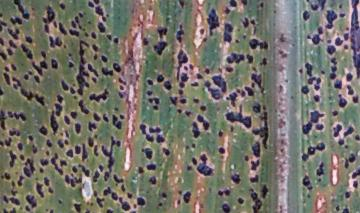tarspot: (348, 1, 360, 80), (75, 39, 89, 95), (224, 103, 251, 132), (253, 110, 270, 150), (100, 134, 117, 172), (175, 47, 189, 83), (206, 7, 221, 38), (203, 79, 222, 102), (196, 153, 214, 177), (248, 185, 262, 213), (13, 1, 31, 20), (225, 50, 245, 67), (19, 41, 36, 61), (88, 88, 110, 103), (308, 108, 326, 126), (212, 74, 227, 95), (23, 158, 37, 180), (249, 71, 263, 92), (51, 153, 63, 177), (324, 9, 337, 31), (44, 2, 57, 24), (304, 33, 324, 47), (49, 110, 59, 138), (304, 1, 329, 12), (223, 21, 234, 46), (152, 41, 169, 57), (195, 114, 210, 132), (18, 87, 33, 104), (175, 22, 186, 45), (91, 190, 105, 208), (300, 174, 314, 191), (77, 98, 90, 116), (78, 161, 90, 180), (118, 196, 131, 213), (25, 193, 38, 210), (300, 119, 312, 137), (111, 114, 123, 132), (251, 140, 262, 159), (226, 92, 239, 108), (140, 147, 156, 160), (94, 4, 107, 20), (33, 91, 46, 107), (52, 100, 64, 117), (34, 181, 45, 199), (6, 27, 20, 41), (336, 93, 348, 109), (230, 172, 242, 188), (314, 160, 325, 177), (156, 25, 169, 39), (249, 159, 261, 174), (87, 62, 99, 77), (8, 149, 17, 169), (30, 61, 42, 76), (331, 123, 342, 139), (182, 189, 192, 206), (342, 125, 355, 138), (13, 111, 27, 123), (100, 66, 115, 77), (1, 106, 7, 133), (191, 121, 199, 141), (96, 19, 106, 35), (324, 44, 337, 56), (258, 39, 270, 52), (8, 127, 21, 139), (81, 141, 88, 163), (304, 59, 313, 76), (240, 16, 251, 29), (243, 85, 254, 98), (136, 195, 147, 208), (112, 173, 125, 184), (67, 28, 80, 39), (300, 9, 310, 23), (245, 53, 255, 67), (251, 101, 261, 115), (248, 174, 262, 184), (87, 120, 97, 134), (9, 16, 23, 26), (2, 72, 12, 86), (57, 21, 67, 35), (92, 168, 100, 185), (346, 82, 355, 97), (307, 144, 316, 159), (260, 184, 269, 199), (168, 94, 177, 109), (60, 78, 69, 93), (333, 78, 344, 90), (23, 34, 35, 45), (306, 74, 316, 87), (140, 36, 150, 49), (148, 125, 161, 135), (9, 196, 22, 206), (56, 91, 66, 104), (49, 57, 59, 70), (73, 122, 82, 136), (101, 111, 110, 125), (315, 122, 326, 133), (145, 77, 156, 88), (111, 61, 122, 72), (155, 134, 166, 145), (334, 35, 344, 47), (347, 152, 357, 164), (299, 84, 309, 96), (350, 167, 360, 179), (248, 38, 258, 50), (92, 111, 102, 123), (38, 126, 48, 138), (56, 137, 65, 150), (54, 35, 63, 48), (13, 74, 22, 87), (2, 206, 18, 213), (344, 71, 354, 82), (221, 202, 231, 213), (163, 80, 173, 91), (146, 162, 157, 172), (40, 157, 50, 168), (39, 60, 49, 71), (197, 26, 206, 38), (148, 174, 157, 186), (30, 142, 39, 154), (86, 135, 94, 148), (44, 175, 52, 188), (2, 193, 10, 206), (17, 176, 25, 189), (316, 142, 326, 152), (151, 94, 161, 104), (316, 25, 325, 36), (236, 196, 245, 207), (180, 72, 189, 83), (73, 202, 82, 213), (73, 145, 82, 156), (66, 148, 75, 159), (64, 173, 71, 187), (48, 34, 55, 48), (312, 94, 320, 106), (62, 114, 70, 126), (4, 137, 12, 149), (33, 73, 41, 85), (103, 171, 110, 184), (93, 144, 100, 157), (329, 56, 339, 65), (100, 54, 109, 64), (68, 110, 78, 119), (59, 158, 68, 168), (223, 5, 231, 16), (259, 56, 267, 67), (139, 124, 146, 136), (69, 177, 76, 189), (45, 137, 52, 149), (17, 141, 24, 153), (314, 76, 323, 85), (190, 156, 199, 165), (224, 65, 233, 74), (110, 192, 119, 201), (146, 96, 155, 105), (117, 77, 126, 86), (329, 65, 339, 73), (343, 189, 351, 199), (227, 1, 237, 9), (218, 146, 226, 156), (136, 165, 144, 175), (162, 147, 170, 157), (190, 80, 200, 88), (103, 186, 111, 196), (144, 88, 154, 96), (91, 42, 99, 52), (38, 50, 48, 58), (144, 135, 155, 142), (342, 157, 348, 169), (300, 153, 308, 162), (327, 71, 336, 79), (177, 1, 186, 9), (185, 163, 193, 172), (190, 142, 198, 151), (156, 74, 164, 83), (184, 109, 192, 118), (113, 34, 119, 46), (90, 31, 98, 40), (10, 63, 19, 71), (297, 67, 304, 77), (352, 179, 359, 189), (216, 188, 223, 198), (223, 187, 230, 197), (239, 89, 246, 99), (195, 71, 202, 81), (116, 92, 126, 99), (239, 1, 250, 7), (314, 84, 322, 92), (249, 17, 257, 25), (199, 104, 207, 112), (126, 191, 134, 199), (86, 1, 94, 9), (90, 76, 98, 84), (10, 189, 18, 197), (352, 95, 359, 104), (260, 103, 267, 112), (91, 52, 98, 61), (69, 86, 76, 95), (67, 61, 76, 68), (113, 104, 120, 113), (97, 163, 104, 172), (71, 165, 78, 174), (63, 138, 70, 147), (22, 72, 29, 81), (70, 20, 76, 30), (342, 43, 349, 51), (325, 37, 333, 44), (259, 1, 266, 9), (242, 155, 250, 162), (179, 98, 187, 105), (217, 130, 224, 138), (176, 198, 183, 206), (160, 191, 168, 198), (178, 81, 185, 89), (106, 33, 113, 41), (58, 3, 66, 10), (38, 166, 45, 174), (47, 187, 55, 194), (26, 134, 34, 141), (7, 109, 14, 117), (83, 31, 90, 39), (343, 32, 349, 41), (339, 11, 345, 20), (354, 134, 360, 143), (341, 207, 350, 213), (120, 183, 126, 192), (151, 105, 160, 111), (10, 180, 16, 189), (4, 172, 10, 181), (73, 14, 79, 23), (52, 20, 58, 29), (43, 24, 49, 33), (104, 208, 114, 213), (331, 109, 338, 116), (337, 139, 344, 146), (320, 69, 327, 76), (334, 204, 341, 211), (203, 67, 210, 74), (216, 66, 223, 73), (192, 97, 199, 104), (118, 113, 125, 120), (4, 65, 11, 72), (11, 83, 18, 90), (344, 25, 350, 33), (177, 88, 183, 96), (117, 85, 125, 91), (48, 207, 56, 213), (24, 204, 30, 212), (43, 150, 51, 156), (18, 152, 24, 160), (78, 10, 84, 18), (40, 16, 46, 24), (176, 107, 182, 114), (188, 63, 194, 70), (183, 64, 189, 71), (42, 205, 48, 212), (185, 143, 190, 151), (65, 130, 70, 138), (1, 85, 4, 98), (337, 3, 343, 9), (132, 203, 138, 209), (115, 140, 121, 146), (1, 10, 5, 19), (73, 94, 78, 101), (57, 198, 62, 205), (59, 131, 64, 138), (1, 138, 4, 149), (84, 209, 92, 213), (178, 190, 183, 196), (157, 200, 162, 206), (86, 19, 91, 25), (77, 24, 83, 29), (28, 69, 33, 75), (235, 86, 239, 93), (81, 27, 86, 32), (129, 210, 136, 213), (67, 52, 72, 56), (1, 173, 4, 179), (344, 144, 348, 148), (92, 1, 99, 3)
